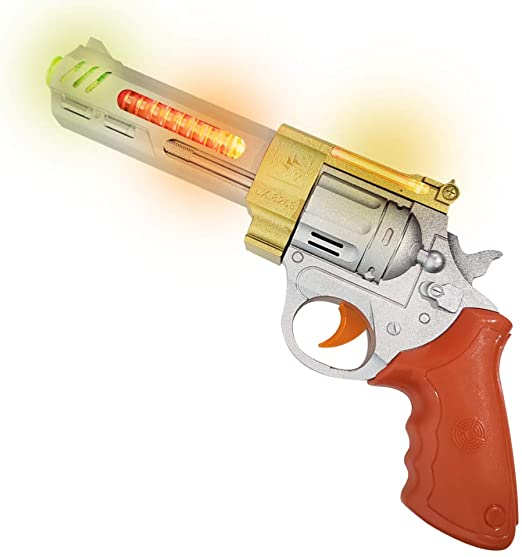Arma Falsa: (42, 35, 522, 551)
